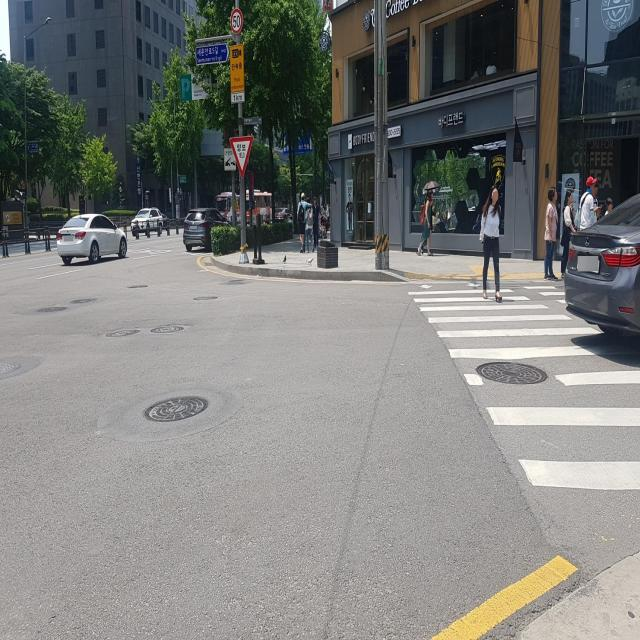횡단보도: (407, 279, 640, 494)
